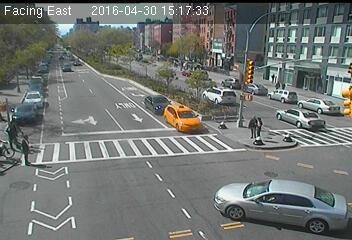neg: (300, 110, 330, 150), (176, 115, 202, 149), (168, 87, 191, 117), (145, 84, 167, 113), (206, 114, 227, 142), (320, 124, 332, 141), (194, 220, 205, 235)
pos: (15, 133, 35, 159), (243, 113, 262, 139), (269, 71, 280, 85)
